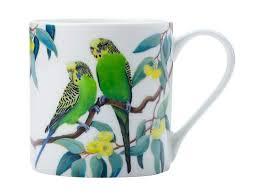budgie: (35, 60, 98, 165), (90, 37, 137, 172)
